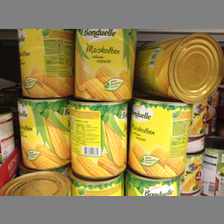corn: (138, 34, 224, 104), (128, 97, 190, 181), (67, 100, 131, 181), (74, 29, 135, 102), (16, 96, 71, 168), (17, 30, 74, 98)
